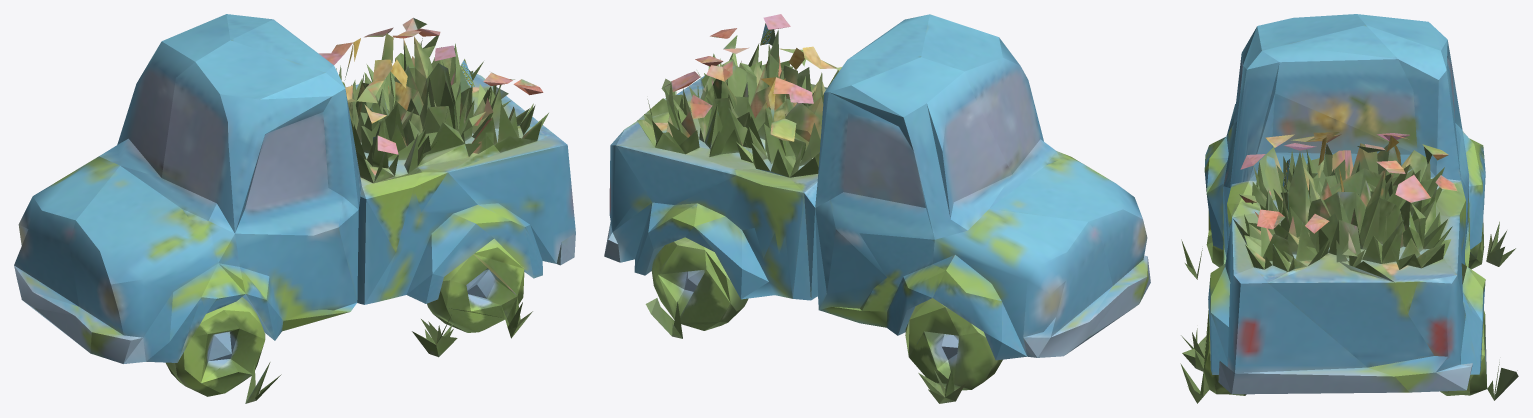
Rendered from meshy.glb.
3 renders of one model, left to right at view 1: azimuth 30°, elevation 25°; view 2: azimuth 150°, elevation 25°; view 3: azimuth 270°, elevation 25°, orthographic. The views are drawn at different scales.
Bounding box in the file's own units: 1.89 × 1.09 × 1.19.
1 material, 1 textured.
